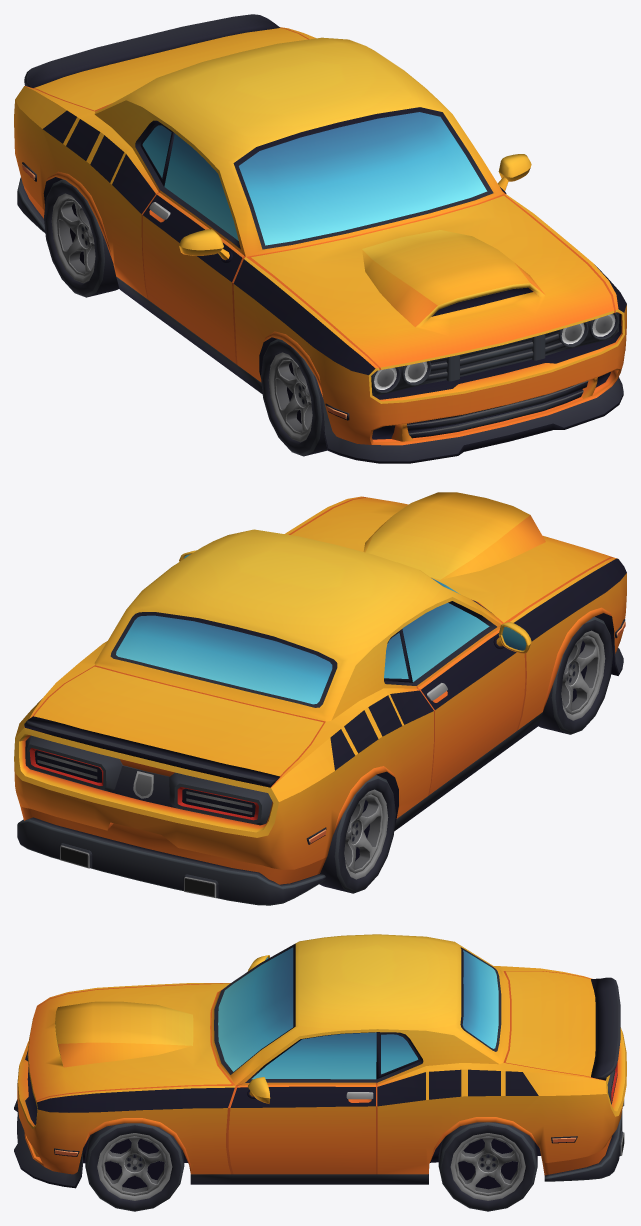
File: ergoninane-fast-74.glb
3 renders of one model, top to bottom at view 1: azimuth 30°, elevation 25°; view 2: azimuth 150°, elevation 25°; view 3: azimuth 270°, elevation 25°, orthographic. The views are drawn at different scales.
Visible parts, largest first — view 1: Fast_Charger_Variant_1, Fast_Charger_RearRightWheel.003, Fast_Charger_FrontRightWheel.003; view 2: Fast_Charger_Variant_1, Fast_Charger_RearRightWheel.003, Fast_Charger_FrontRightWheel.003; view 3: Fast_Charger_Variant_1, Fast_Charger_RearLeftWheel.003, Fast_Charger_FrontLeftWheel.003.
Boxes of the visible parts, x1,y1,x2,y2 form: Fast_Charger_Variant_1: [14, 14, 626, 463]; Fast_Charger_RearRightWheel.003: [44, 179, 119, 297]; Fast_Charger_FrontRightWheel.003: [261, 339, 327, 456]; Fast_Charger_Variant_1: [14, 492, 626, 905]; Fast_Charger_RearRightWheel.003: [319, 775, 395, 893]; Fast_Charger_FrontRightWheel.003: [538, 616, 612, 734]; Fast_Charger_Variant_1: [14, 934, 626, 1188]; Fast_Charger_RearLeftWheel.003: [438, 1122, 537, 1211]; Fast_Charger_FrontLeftWheel.003: [85, 1123, 184, 1211].
Bounding box in the file's own units: 2.63 × 1.67 × 4.91.
Materials: 1 (1 with a texture image).
